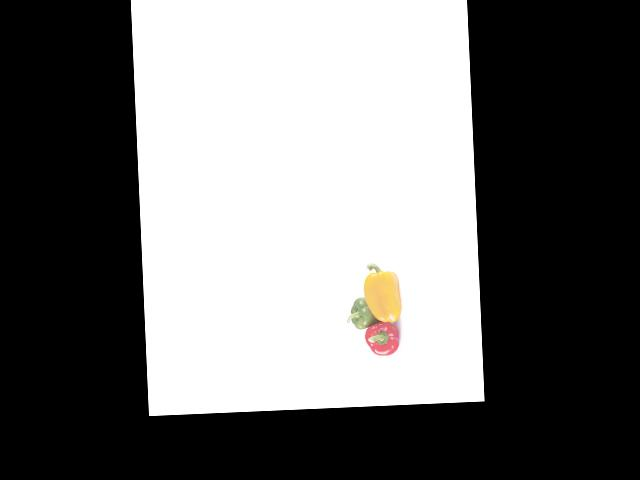bell_pepper: (345, 293, 380, 333)
